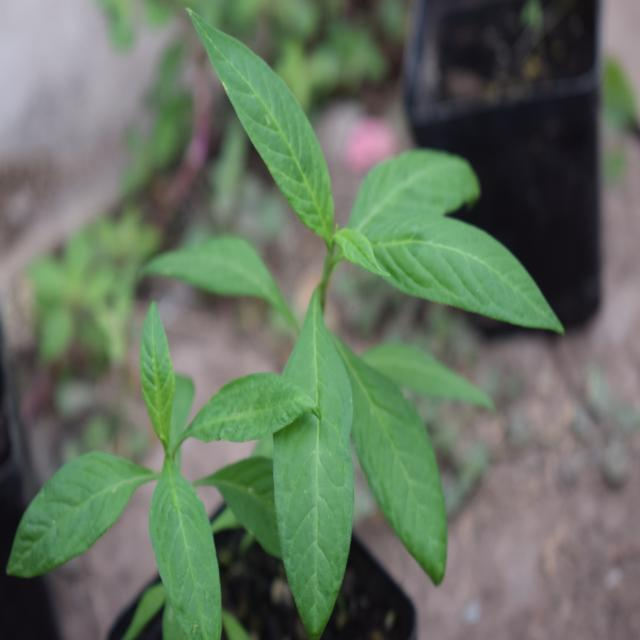white_smart_weed: (195, 15, 550, 582), (12, 292, 302, 616)
